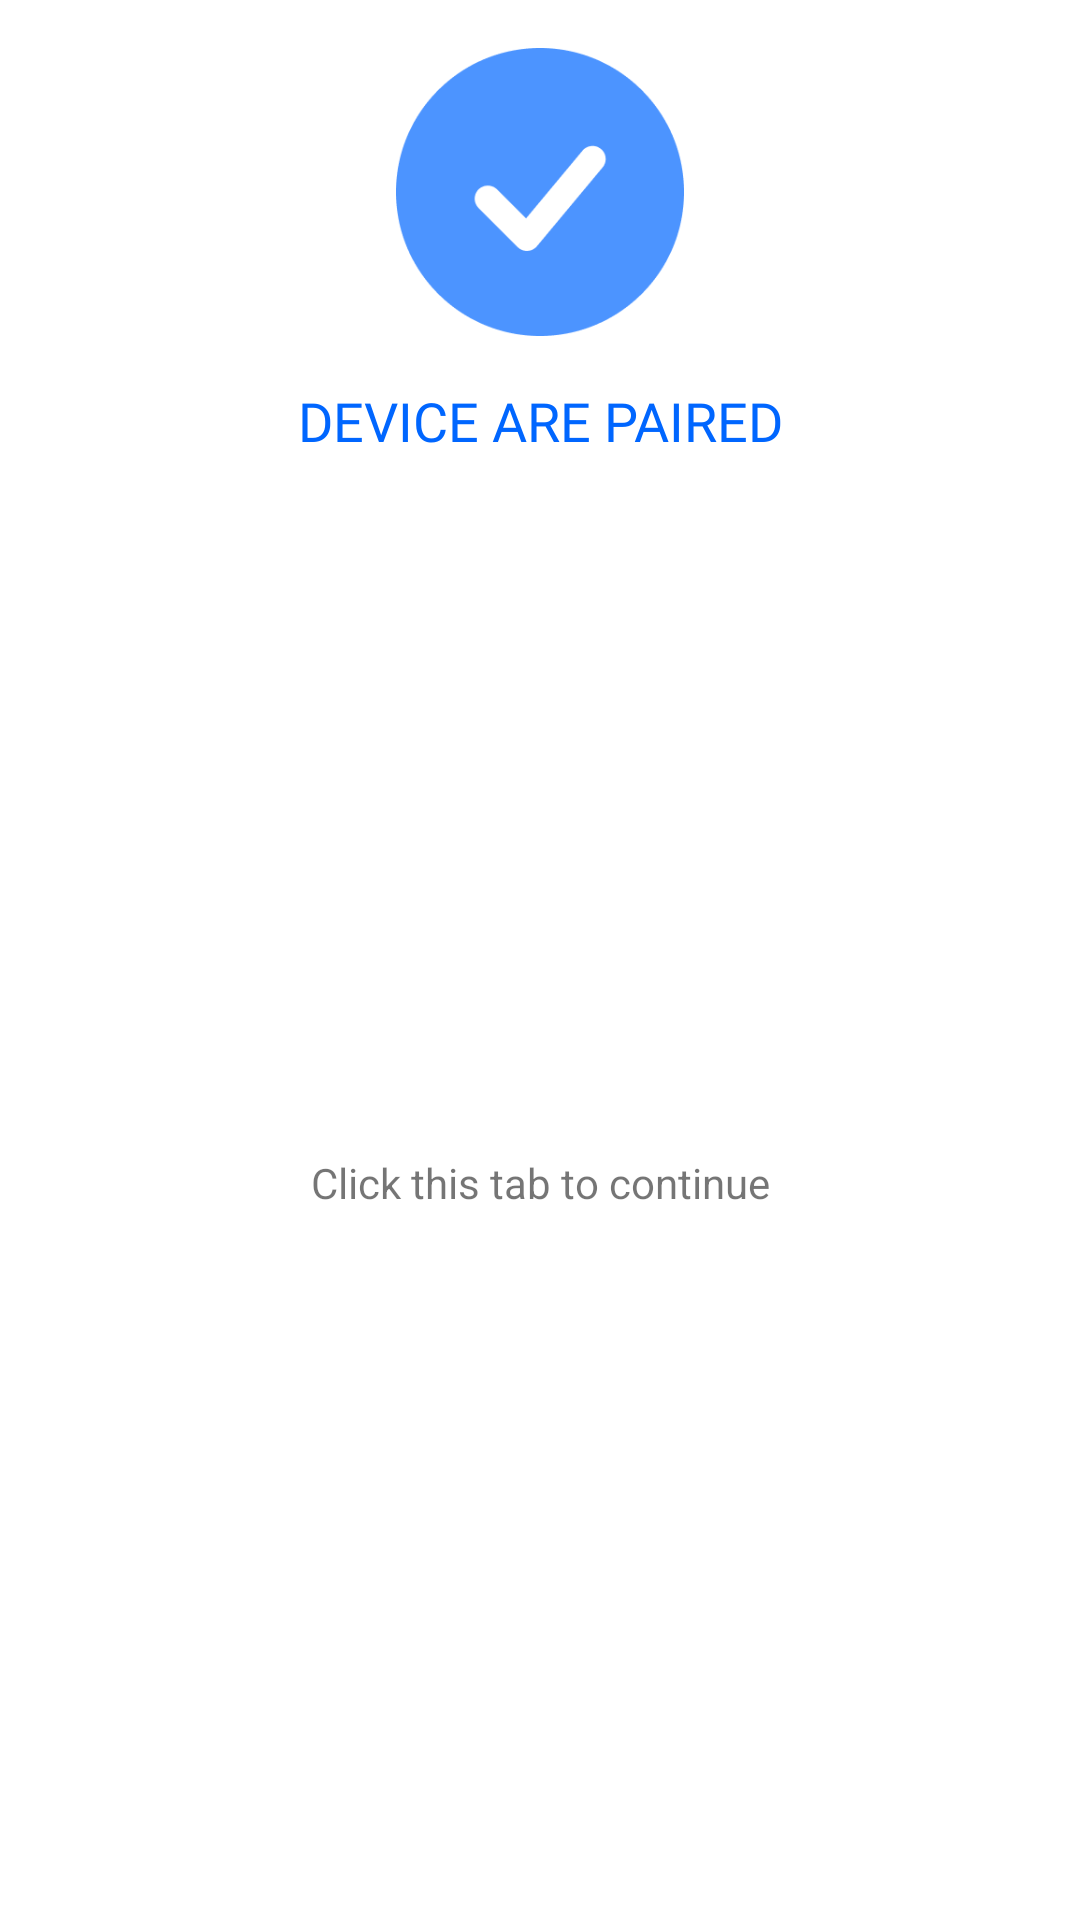

Where icons sit on this 1080x1920 app screen, as (x1, y1, x2, y2):
Success Image: (396, 48, 684, 336)
